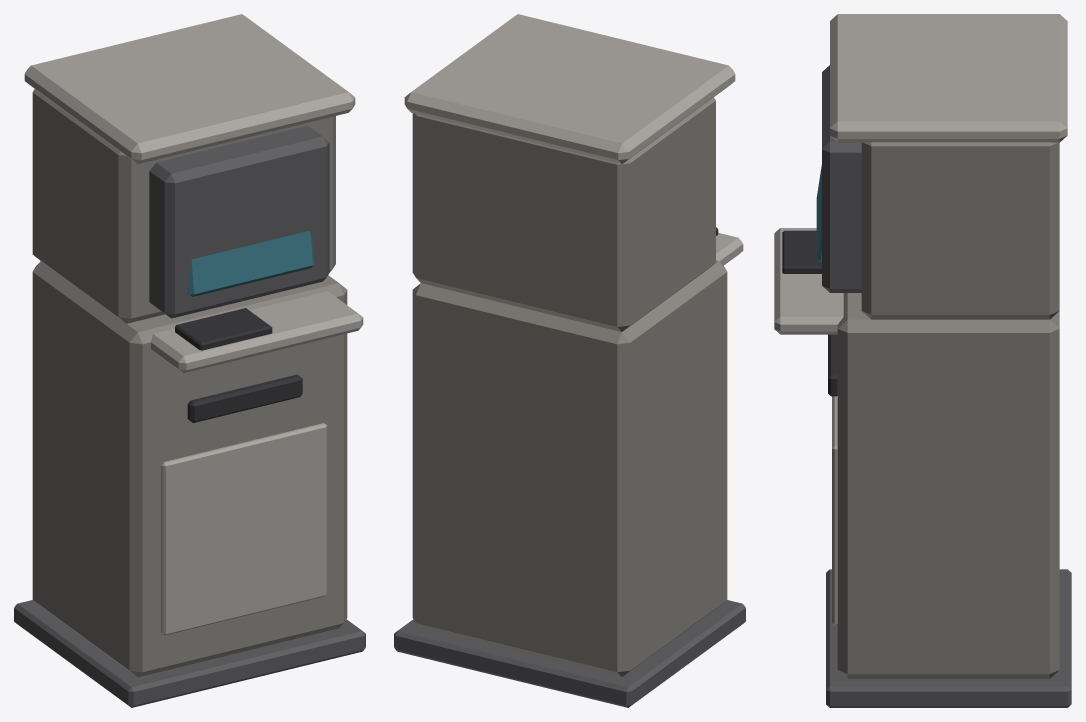
Rendered from atm.glb.
The picture shows the model from 3 angles, left to right: view 1: azimuth 30°, elevation 25°; view 2: azimuth 150°, elevation 25°; view 3: azimuth 270°, elevation 25°; orthographic projection. The views are drawn at different scales.
Parts seen in each view (by area): view 1: atm; view 2: atm; view 3: atm.
Part boxes in pixels (x1,y1,x2,y2): atm: (14, 14, 365, 707); atm: (394, 14, 745, 707); atm: (774, 14, 1071, 707).
Size of the model in its own units: 0.72 by 1.62 by 0.75.
